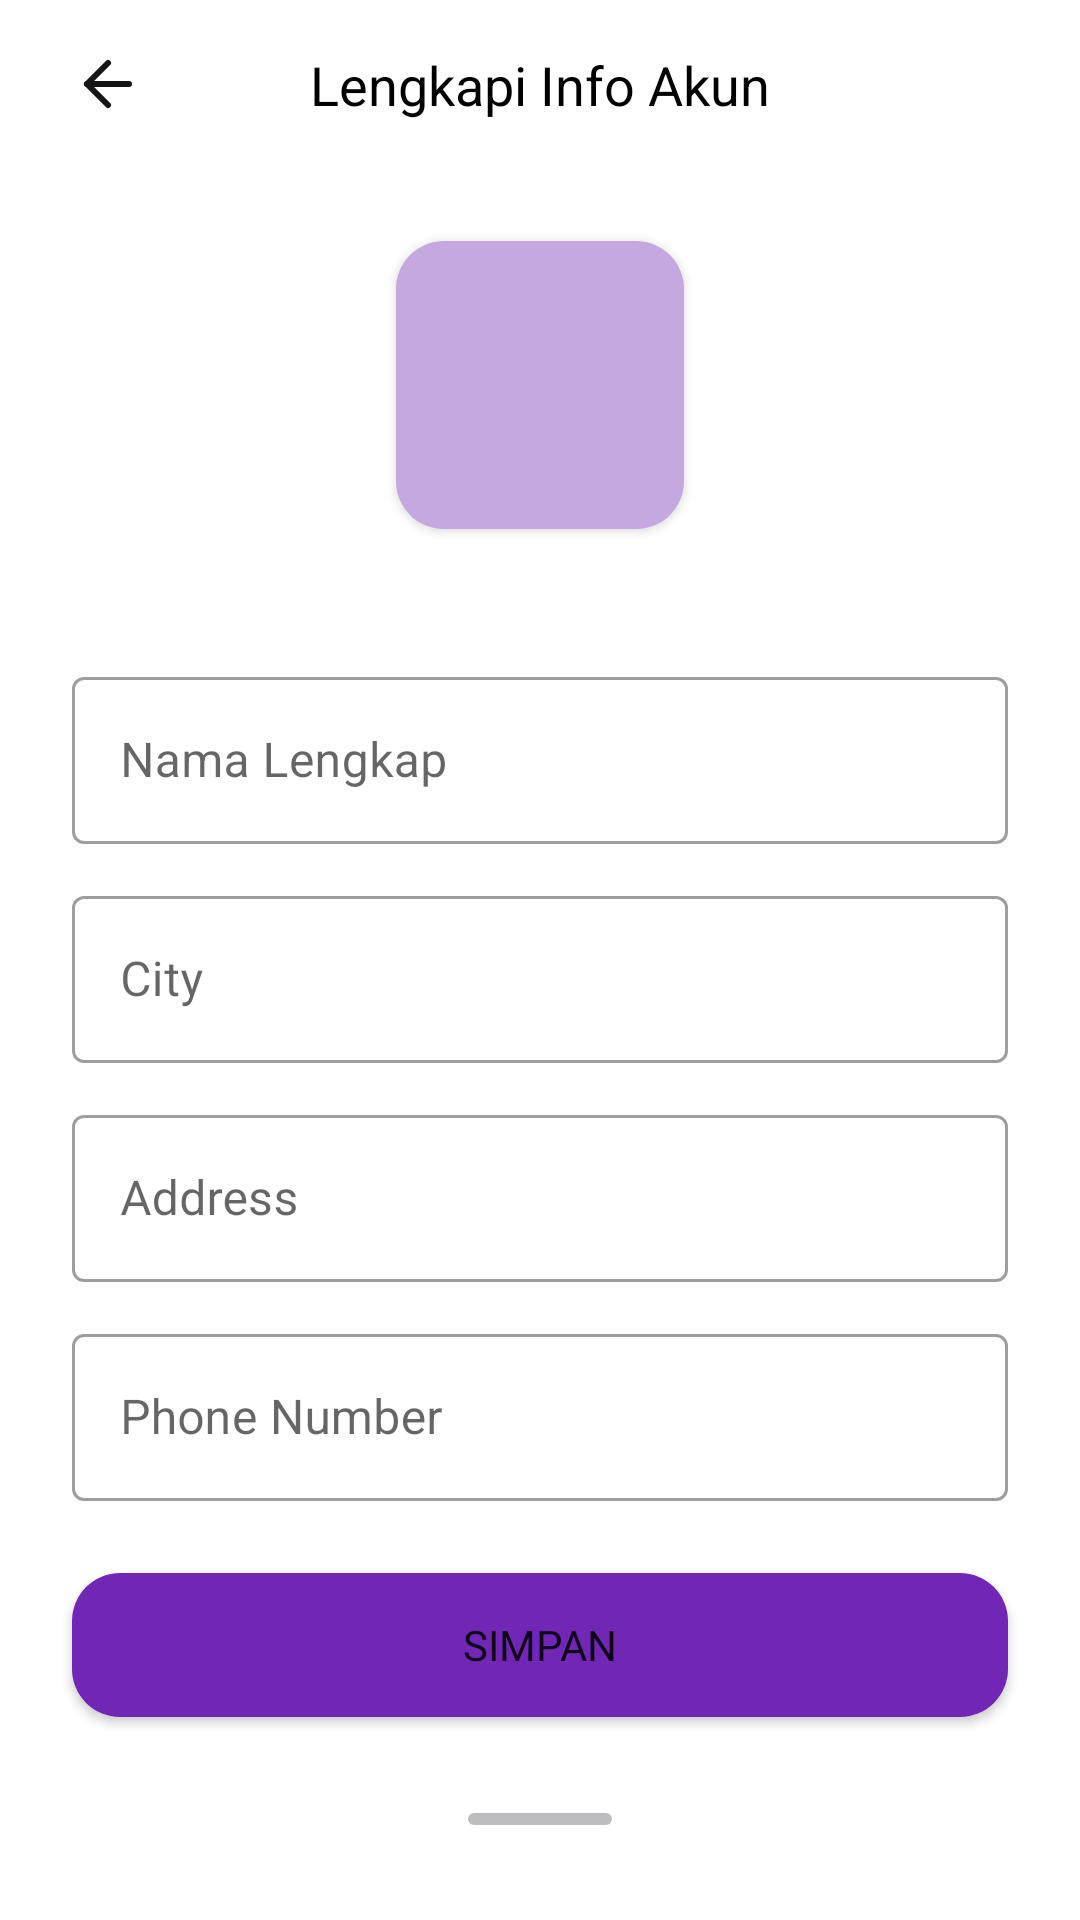

Where icons sit on this 1080px x 1920px app screen, as (x1, y1, x2, y2):
back button: (84, 60, 132, 108)
